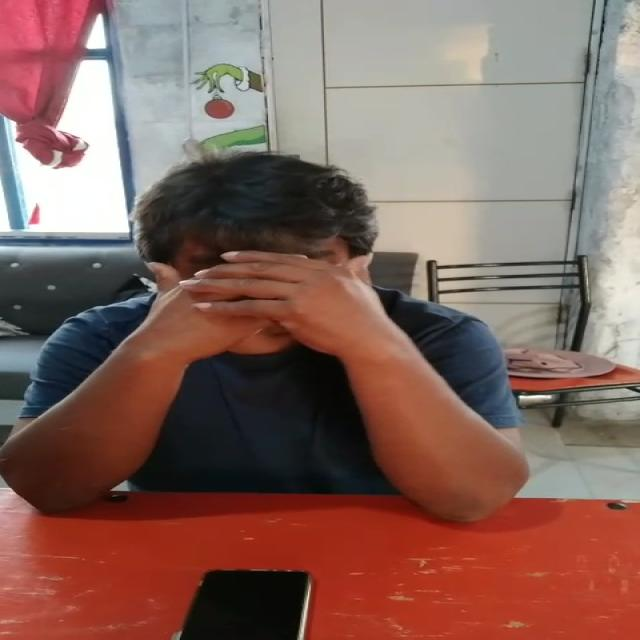7_mano_rostro: (144, 255, 406, 402)
